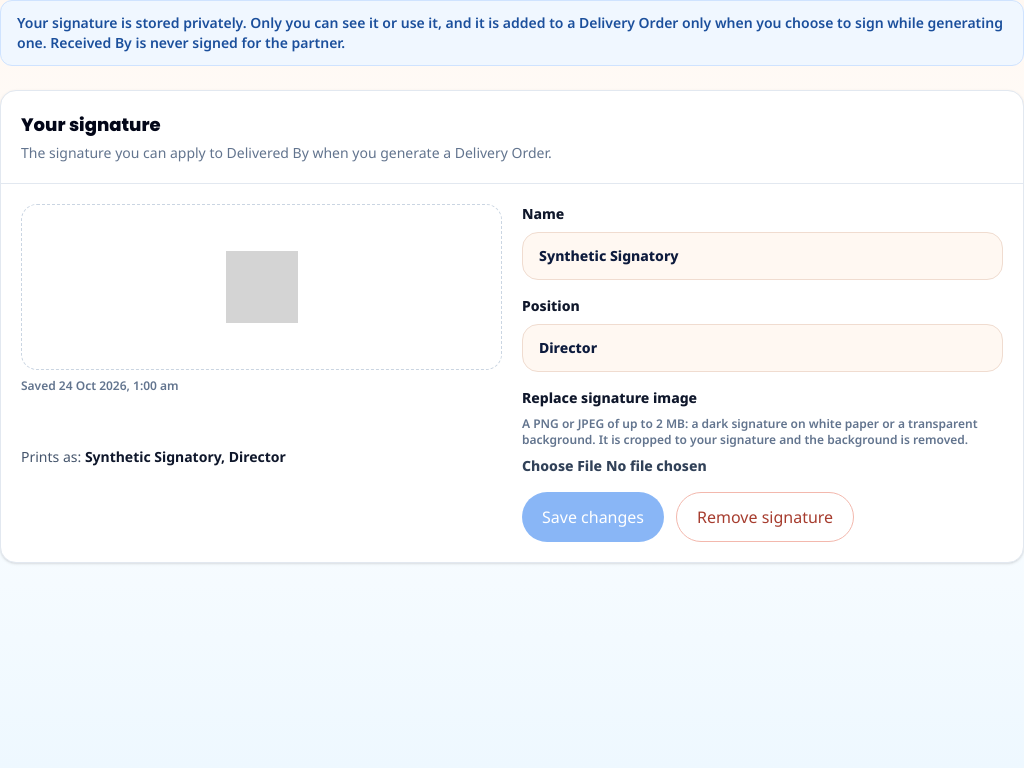
Test: removes the signature only after confirming
The width and height of the screenshot is (1024, 768).
Click the button "Remove signature" at (765, 517), box x1=676 y1=492 x2=854 y2=542
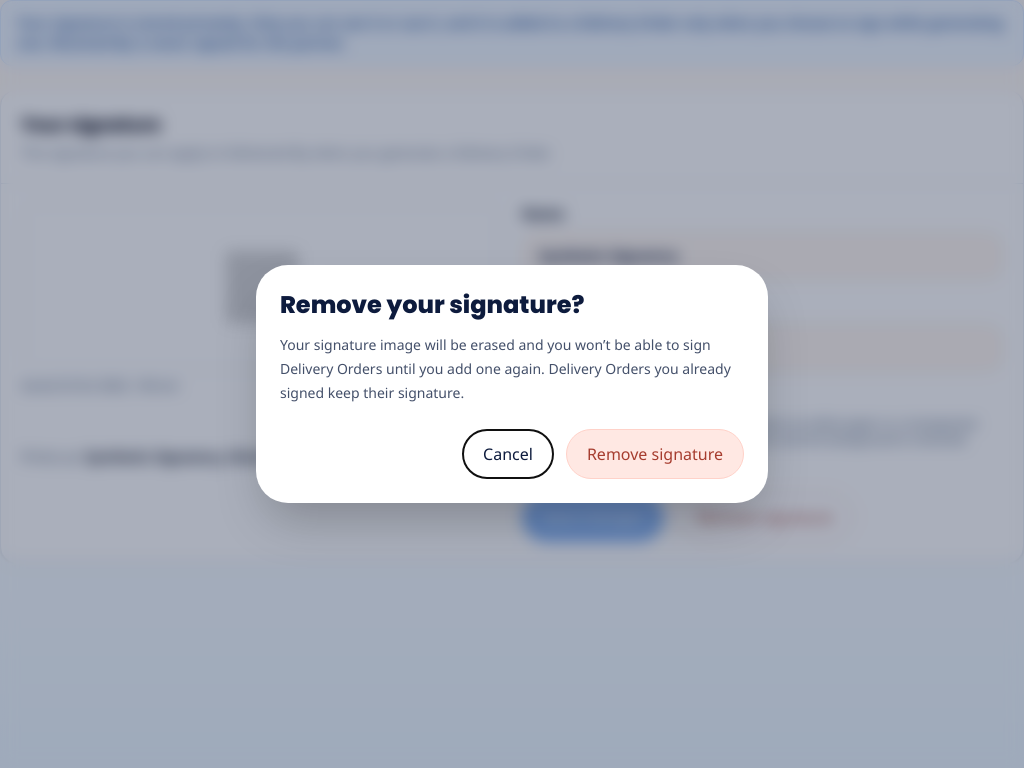
Now the text "Delivery Orders you already signed keep their signature" is shown, box x1=280 y1=335 x2=731 y2=402
Click the button "Remove signature" at (655, 454), box x1=566 y1=429 x2=744 y2=479
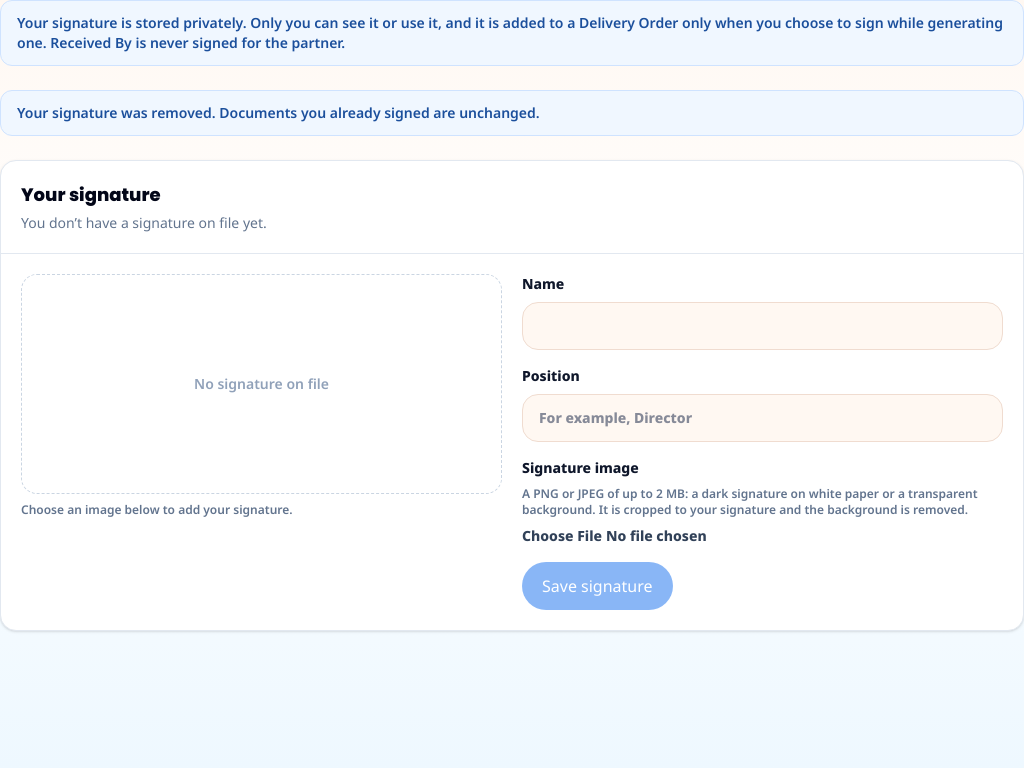
Now the text "Your signature was removed" is shown, box x1=17 y1=103 x2=540 y2=122
